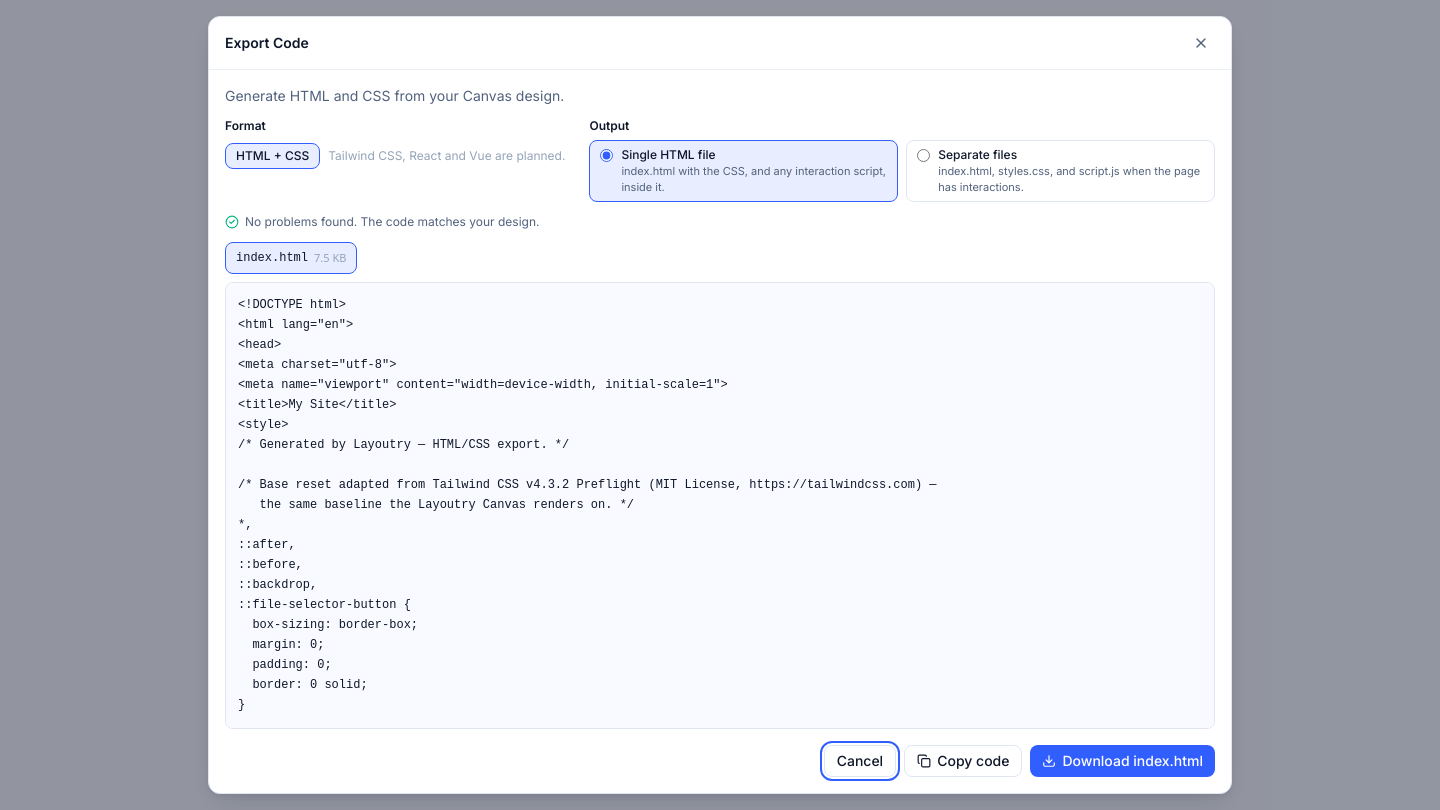
Test: ExportCodeDialog — copy and browser downloads › downloads the single file, and each separate file on its own or all together
This screenshot has width=1440, height=810.
Click the button "Download index.html": (1123, 761) [1030,745,1215,777]
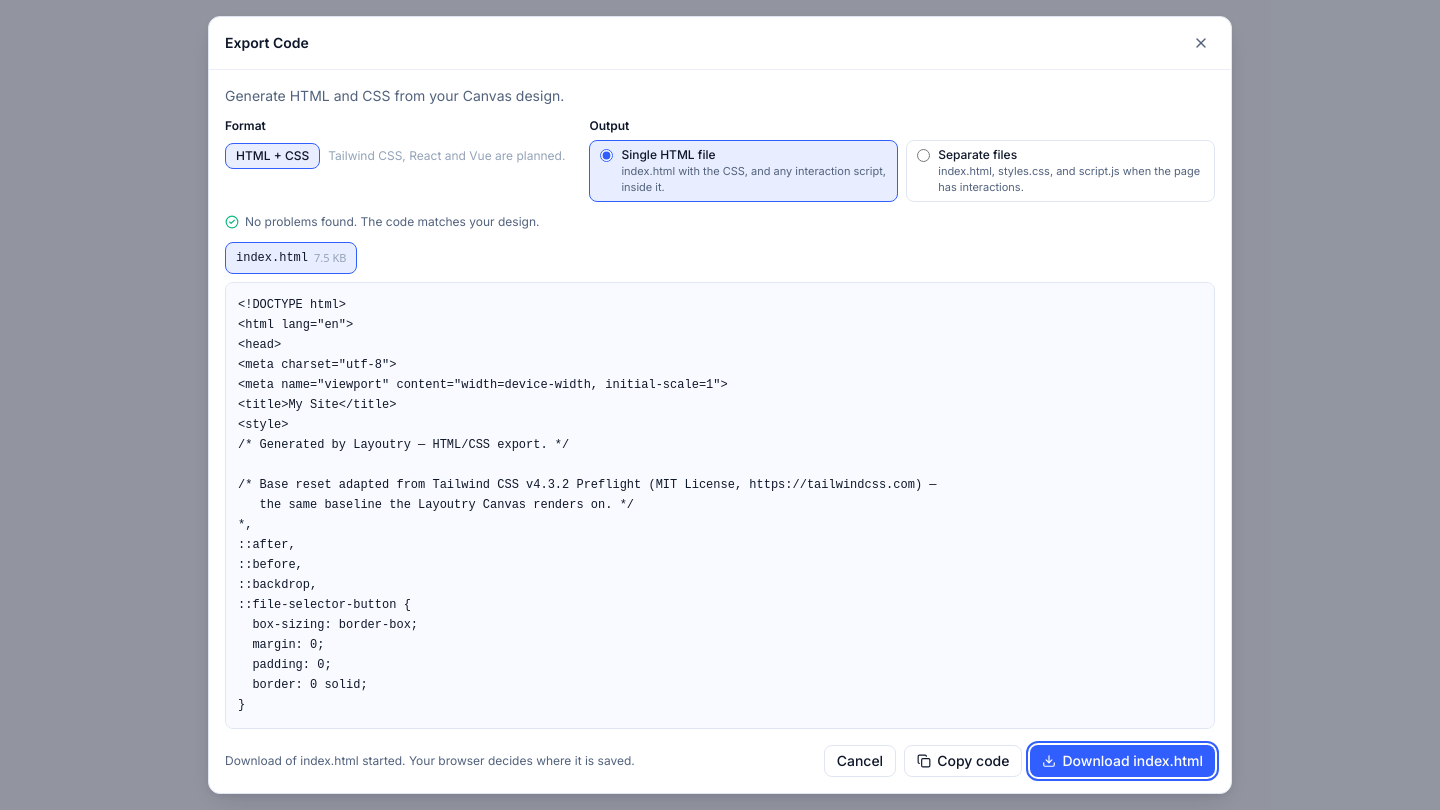
Expected: the message with test id "export-transfer-status" shows "Download of index.html started", [225,753,635,768]
Click the radio button labelled "Separate files": (924, 156) [917,149,930,162]
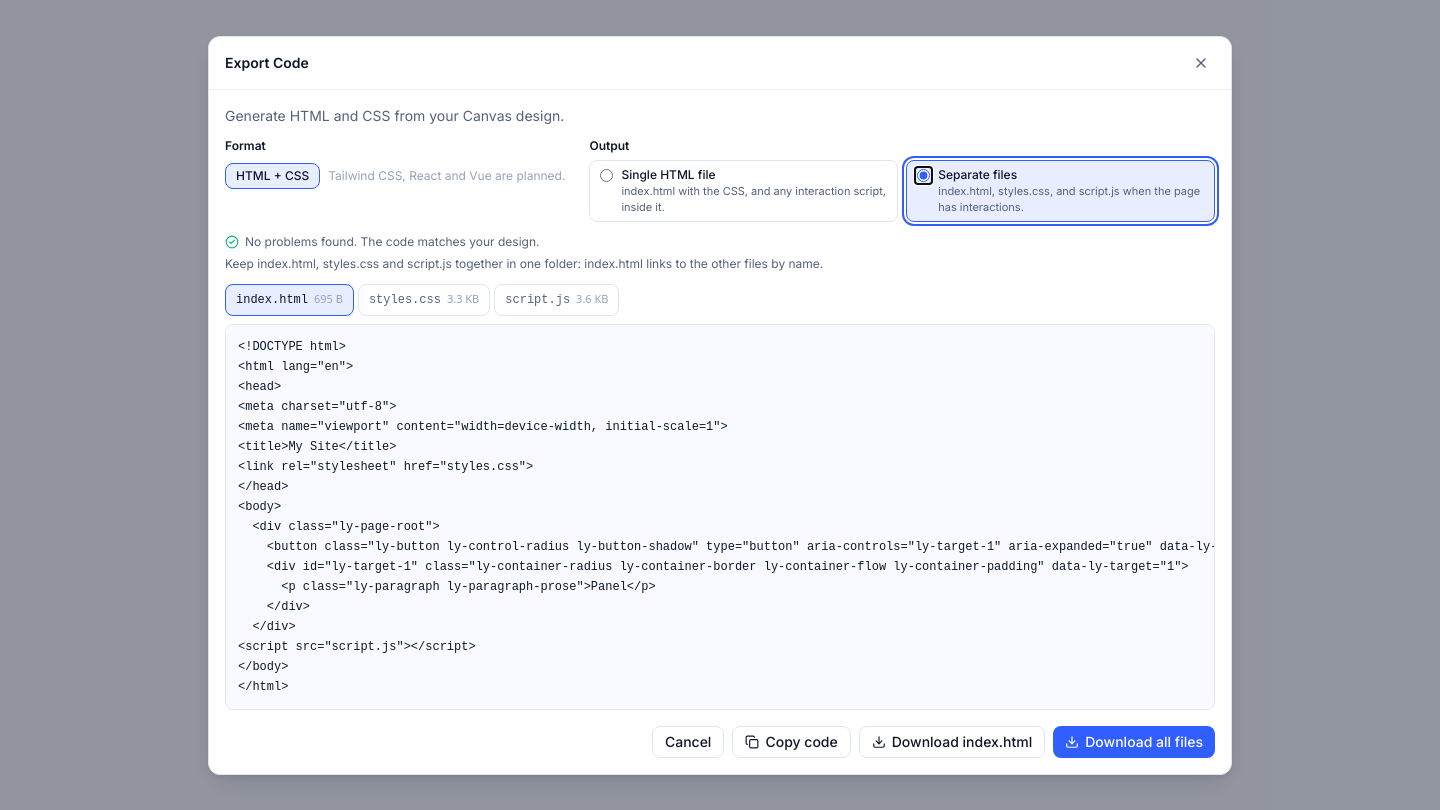
Click the tab "styles.css 3.3 KB": (424, 300) [358,284,490,316]
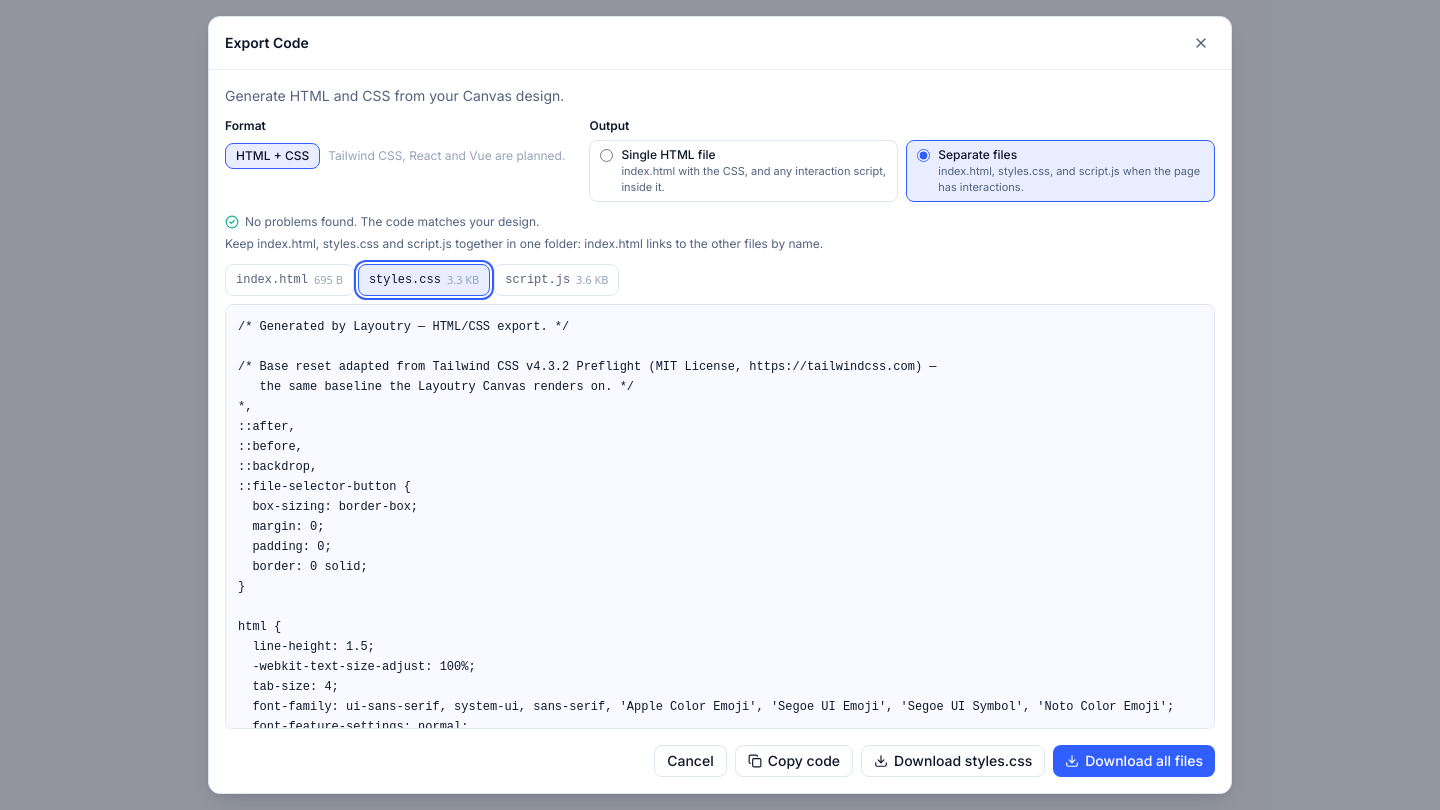
Click the button "Download styles.css": (953, 761) [861,745,1045,777]
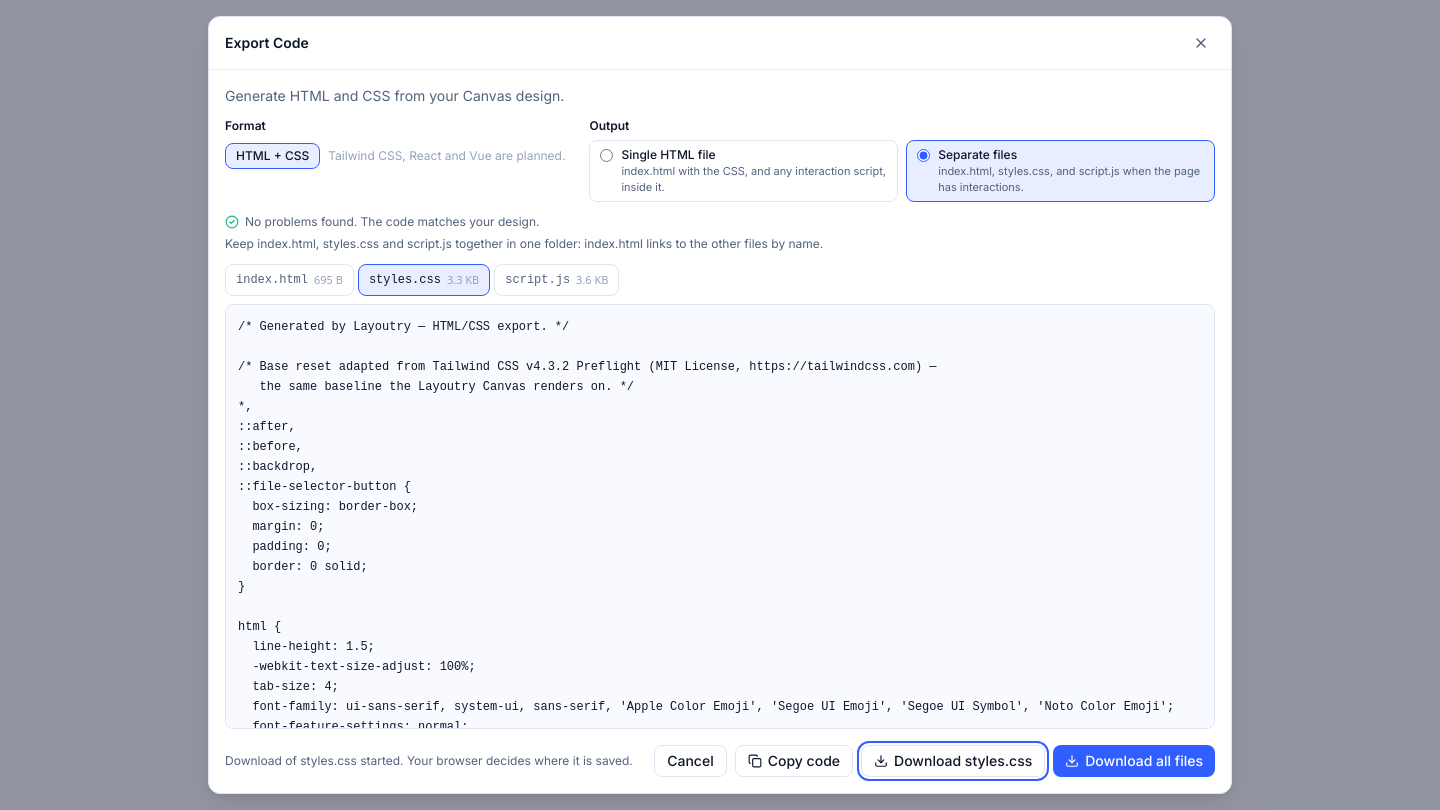
Click the button "Download all files": (1134, 761) [1053,745,1215,777]
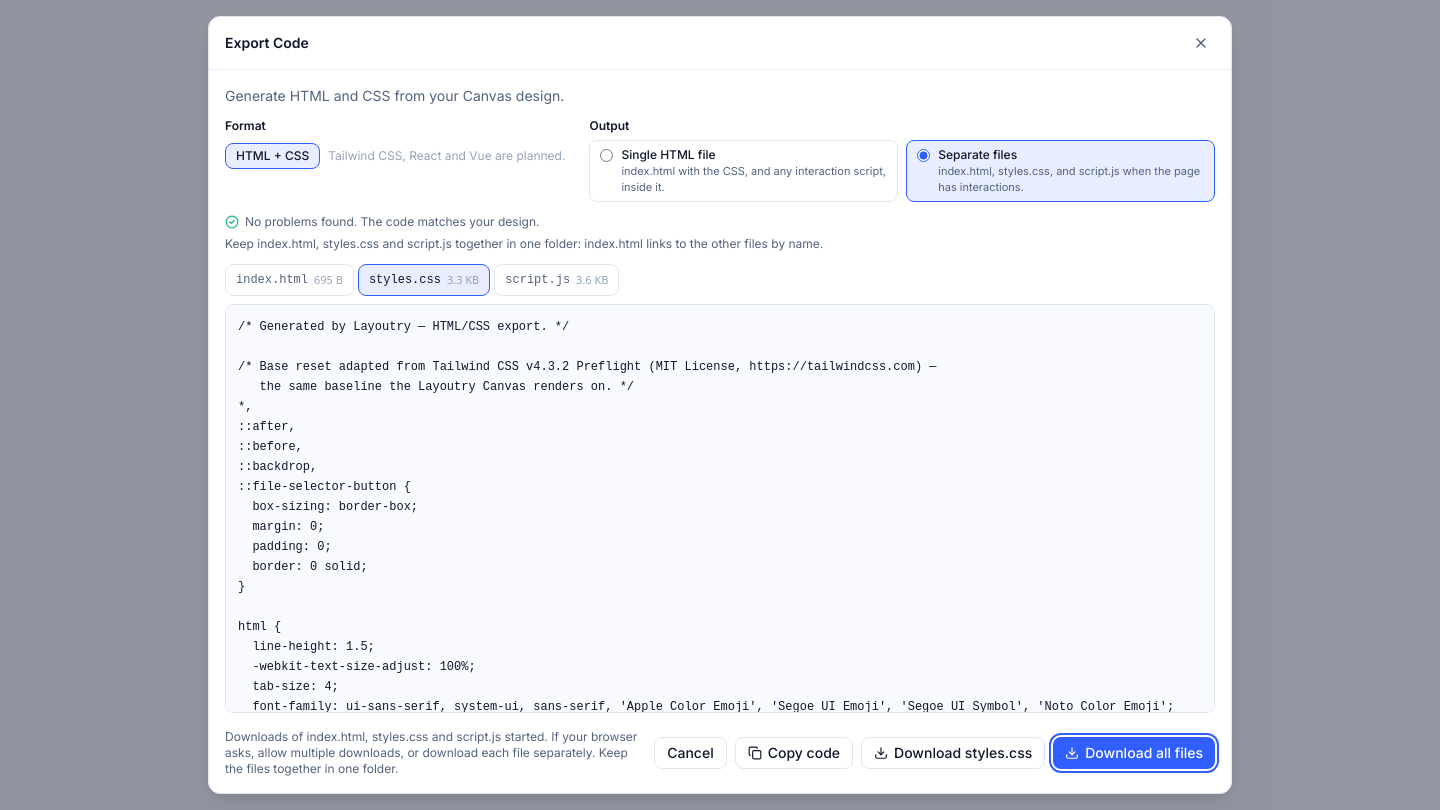
Expected: the message with test id "export-transfer-status" shows "allow multiple downloads", [225,729,637,776]
